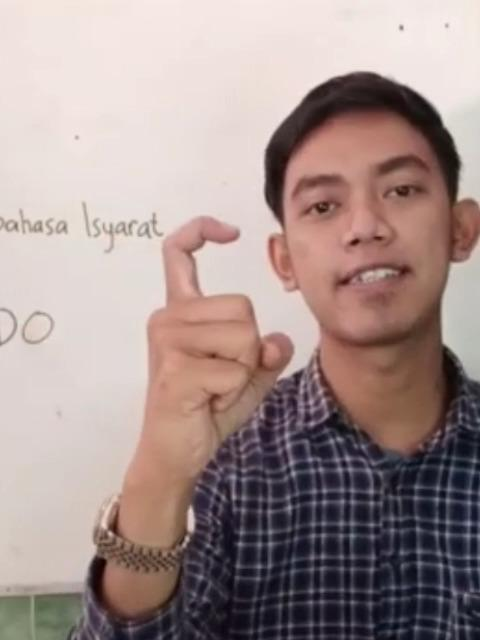X: (140, 208, 294, 468)
